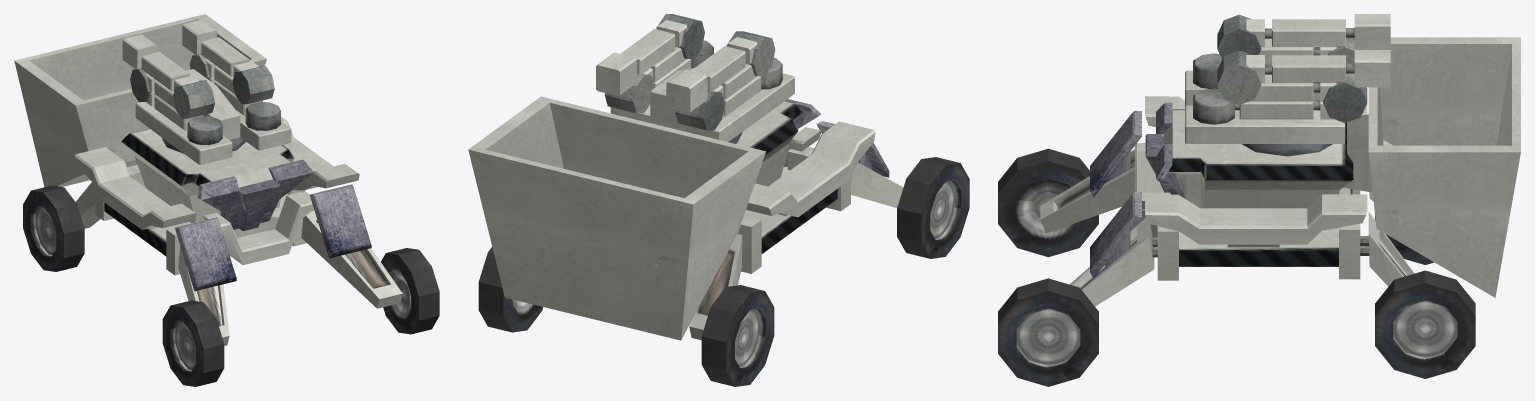
Rendered from robotHeavy_idle.fbx.
3 views of the same model, side by side, from view 1: azimuth 30°, elevation 25°; view 2: azimuth 150°, elevation 25°; view 3: azimuth 270°, elevation 25° (orthographic). The views are drawn at different scales.
Visible parts, largest first — view 1: robotCarrier_mesh, robotBody_mesh, robotLeg_f_L_mesh, robotCylinder_mesh, robotWheel_f_R_mesh, robotWheel_b_R_mesh, robotLeg_f_R_mesh, robotPanel_R_mesh, robotWheel_f_L_mesh, robotPanel_front_mesh, robotPanel_L_mesh, robotArm_L_7_mesh (+11 smaller); view 2: robotCarrier_mesh, robotBody_mesh, robotWheel_b_R_mesh, robotWheel_f_R_mesh, robotPanel_R_mesh, robotCylinder_mesh, robotWheel_b_L_mesh, robotLeg_f_R_mesh, robotLeg_b_R_mesh, robotArm_L_3_mesh2, robotArm_L_3_mesh1, robotArm_R_9_mesh (+10 smaller); view 3: robotCarrier_mesh, robotBody_mesh, robotWheel_f_L_mesh, robotWheel_b_L_mesh, robotPanel_L_mesh, robotWheel_f_R_mesh, robotCylinder_mesh, robotLeg_f_R_mesh, robotLeg_f_L_mesh, robotArm_R_9_mesh, robotArm_L_9_mesh, robotLeg_b_L_mesh (+13 smaller).
Boxes of the visible parts, box(x1,y1,x2,y2) form: robotCarrier_mesh: box(14, 14, 266, 187); robotBody_mesh: box(95, 128, 330, 275); robotLeg_f_L_mesh: box(301, 184, 402, 308); robotCylinder_mesh: box(135, 69, 291, 164); robotWheel_f_R_mesh: box(162, 300, 224, 386); robotWheel_b_R_mesh: box(23, 185, 84, 271); robotLeg_f_R_mesh: box(175, 217, 236, 345); robotPanel_R_mesh: box(74, 147, 196, 229); robotWheel_f_L_mesh: box(381, 248, 439, 334); robotPanel_front_mesh: box(203, 192, 312, 265); robotPanel_L_mesh: box(281, 117, 359, 194); robotArm_L_7_mesh: box(232, 66, 274, 104); robotCarrier_mesh: box(468, 96, 765, 340); robotBody_mesh: box(736, 99, 850, 273); robotWheel_b_R_mesh: box(701, 285, 774, 386); robotWheel_f_R_mesh: box(897, 157, 969, 258); robotPanel_R_mesh: box(746, 121, 875, 217); robotCylinder_mesh: box(610, 67, 794, 143); robotWheel_b_L_mesh: box(478, 247, 543, 332); robotLeg_f_R_mesh: box(816, 121, 903, 207); robotLeg_b_R_mesh: box(689, 234, 742, 340); robotArm_L_3_mesh2: box(666, 70, 707, 113); robotArm_L_3_mesh1: box(596, 53, 636, 95); robotArm_R_9_mesh: box(691, 46, 745, 91); robotCarrier_mesh: box(1343, 37, 1520, 297); robotBody_mesh: box(1145, 102, 1360, 280); robotWheel_f_L_mesh: box(998, 278, 1098, 386); robotWheel_b_L_mesh: box(1375, 270, 1475, 378); robotPanel_L_mesh: box(1145, 194, 1367, 247); robotWheel_f_R_mesh: box(998, 148, 1098, 257); robotCylinder_mesh: box(1185, 70, 1344, 156); robotLeg_f_R_mesh: box(1040, 110, 1145, 233); robotLeg_f_L_mesh: box(1069, 192, 1157, 306); robotArm_R_9_mesh: box(1272, 19, 1345, 46); robotArm_L_9_mesh: box(1272, 55, 1345, 82); robotLeg_b_L_mesh: box(1360, 212, 1414, 286).
Size of the model in its own units: 20.17 by 18.42 by 31.33.
5 materials, 5 textured.
